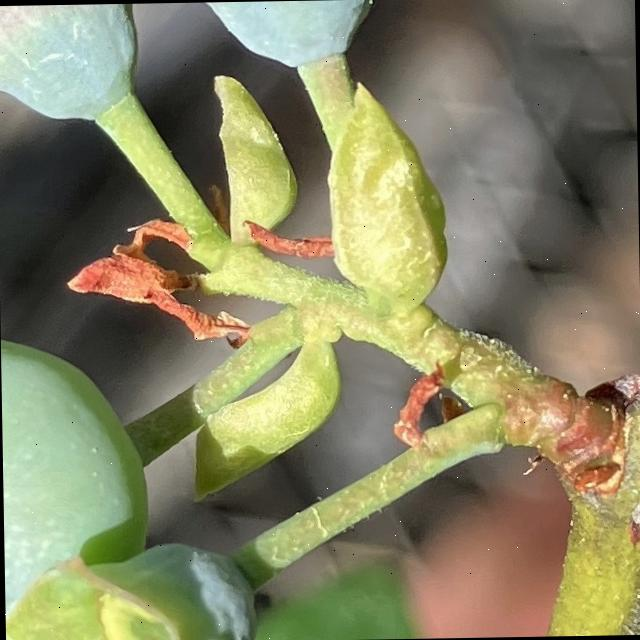Blueberries: (0, 305, 168, 640)
